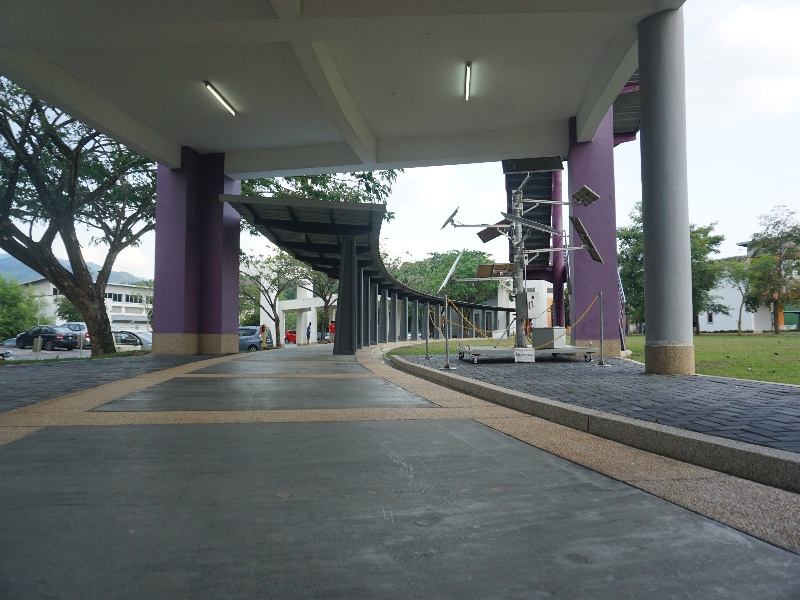Block D Pillar 5: (6, 7, 800, 504)
pillar: (627, 11, 710, 387), (135, 133, 258, 362), (560, 104, 637, 359), (333, 225, 366, 364)
